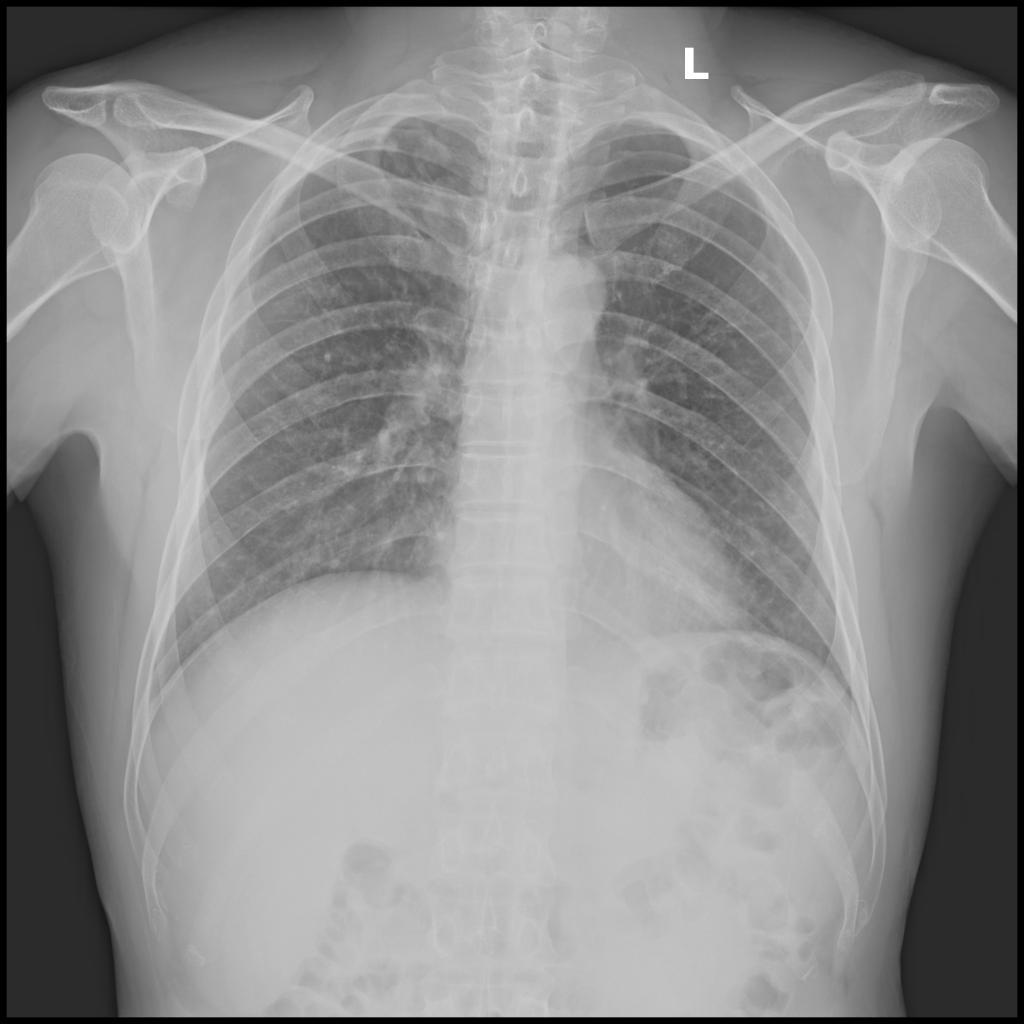Nodule: (381, 138, 401, 157), (319, 349, 336, 367)
